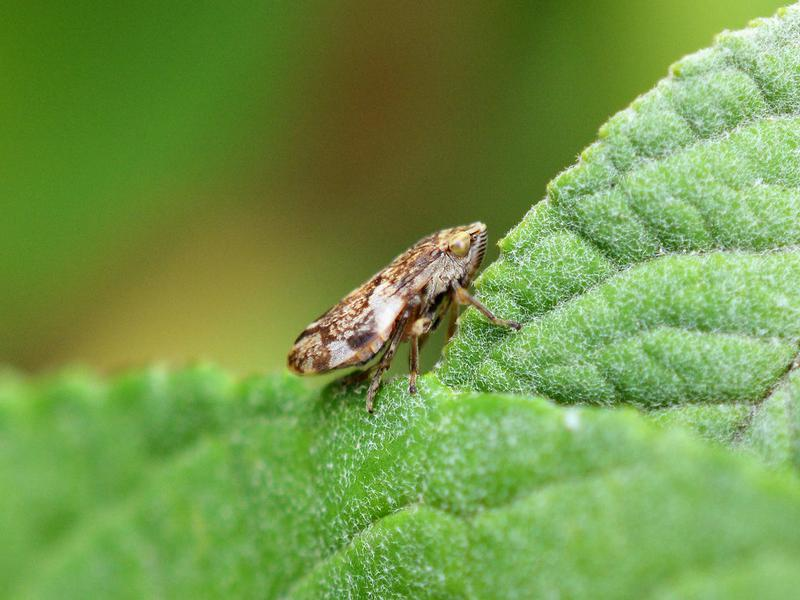Brown_plant_leafhopper: (272, 217, 516, 404)
